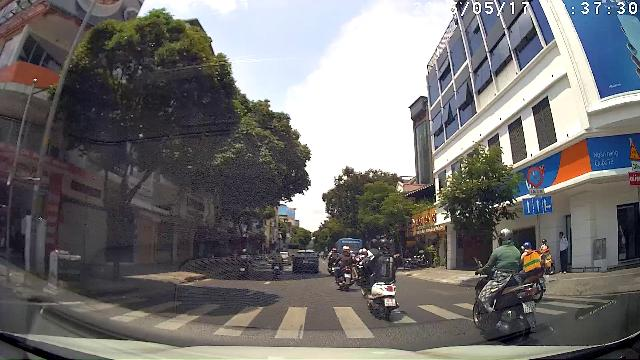131a-cam-do-xe: (527, 167, 543, 187)
